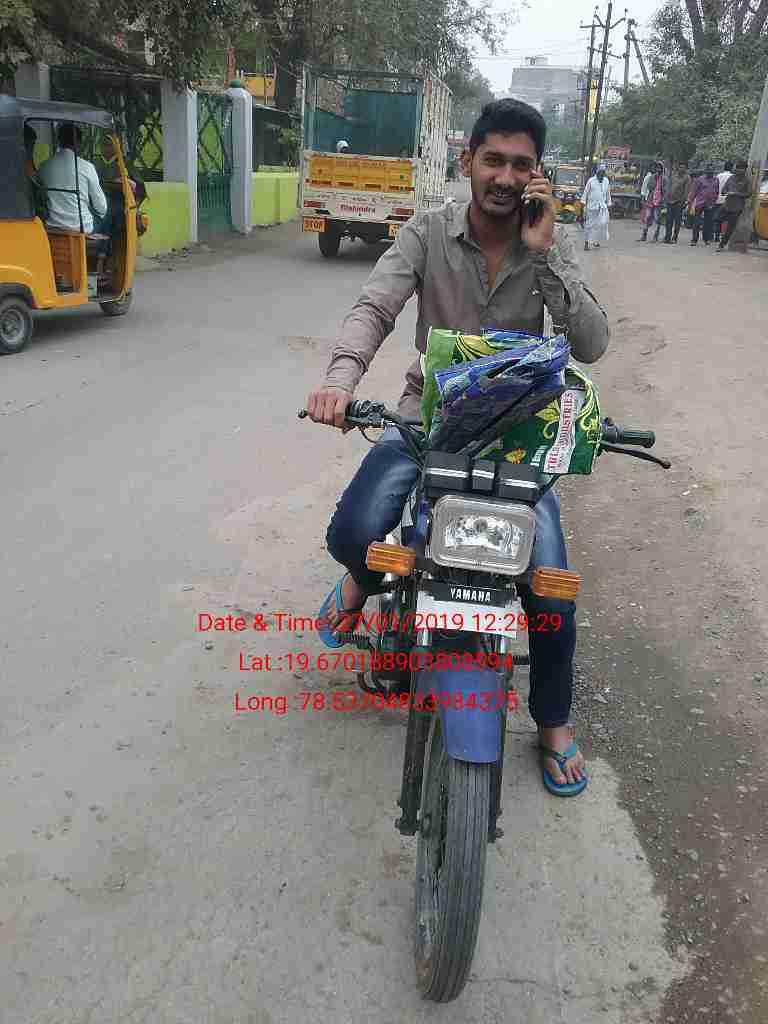without_helmet: (281, 91, 669, 1015)
